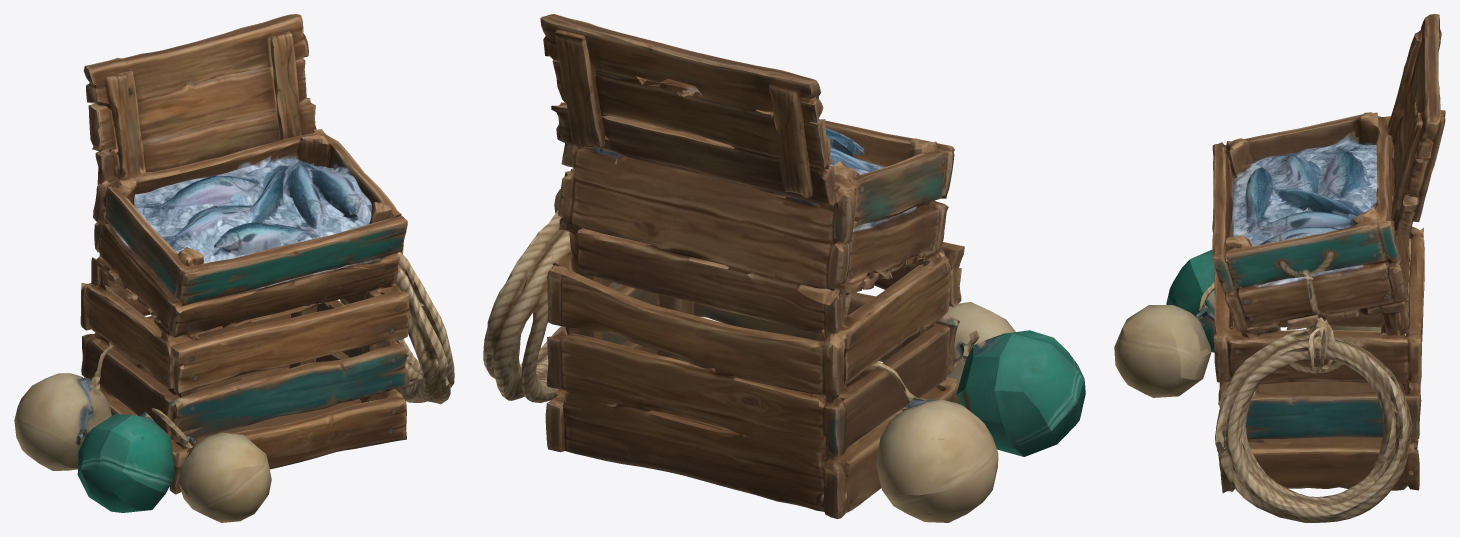
Rendered from tidewake_fish_crate_stack.glb.
3 renders of one model, left to right at view 1: azimuth 30°, elevation 25°; view 2: azimuth 150°, elevation 25°; view 3: azimuth 270°, elevation 25°, orthographic. The views are drawn at different scales.
Visible parts, largest first — view 1: Mesh_0; view 2: Mesh_0; view 3: Mesh_0.
Boxes of the visible parts, x1,y1,x2,y2 form: Mesh_0: (14, 14, 454, 522); Mesh_0: (483, 14, 1085, 522); Mesh_0: (1114, 14, 1445, 522).
Size of the model in its own units: 1.89 by 1.65 by 1.31.
Materials: 1 (1 with a texture image).
